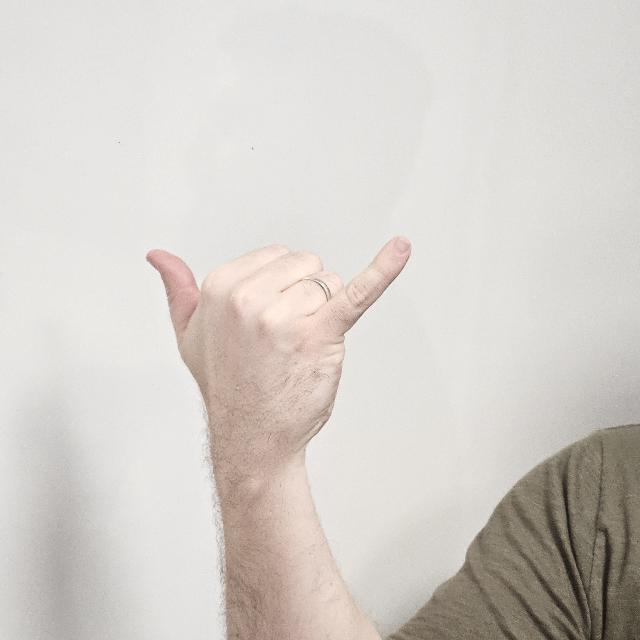Direita: (132, 226, 412, 518)
